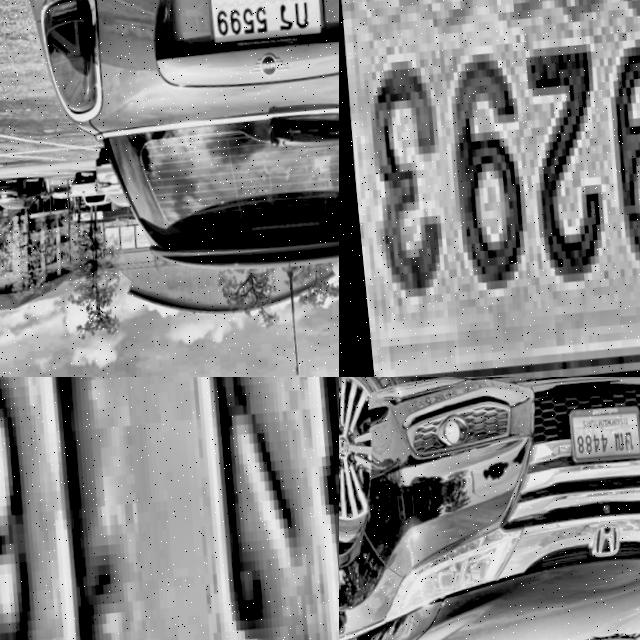license-plate: (339, 0, 640, 377), (0, 377, 339, 640), (199, 0, 320, 56), (560, 411, 640, 480)
